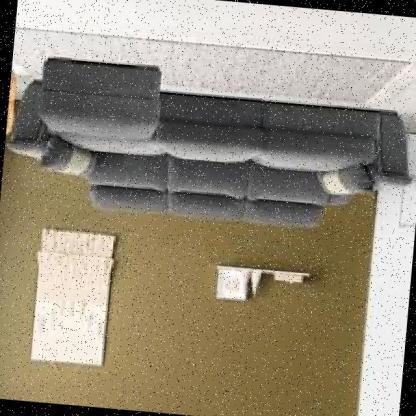Sofa: (3, 49, 416, 252)
